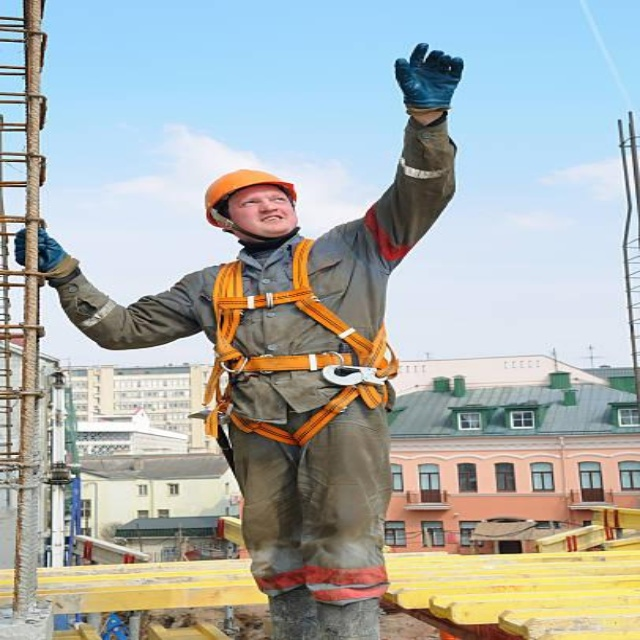Arnes_seguridad: (205, 233, 406, 449)
